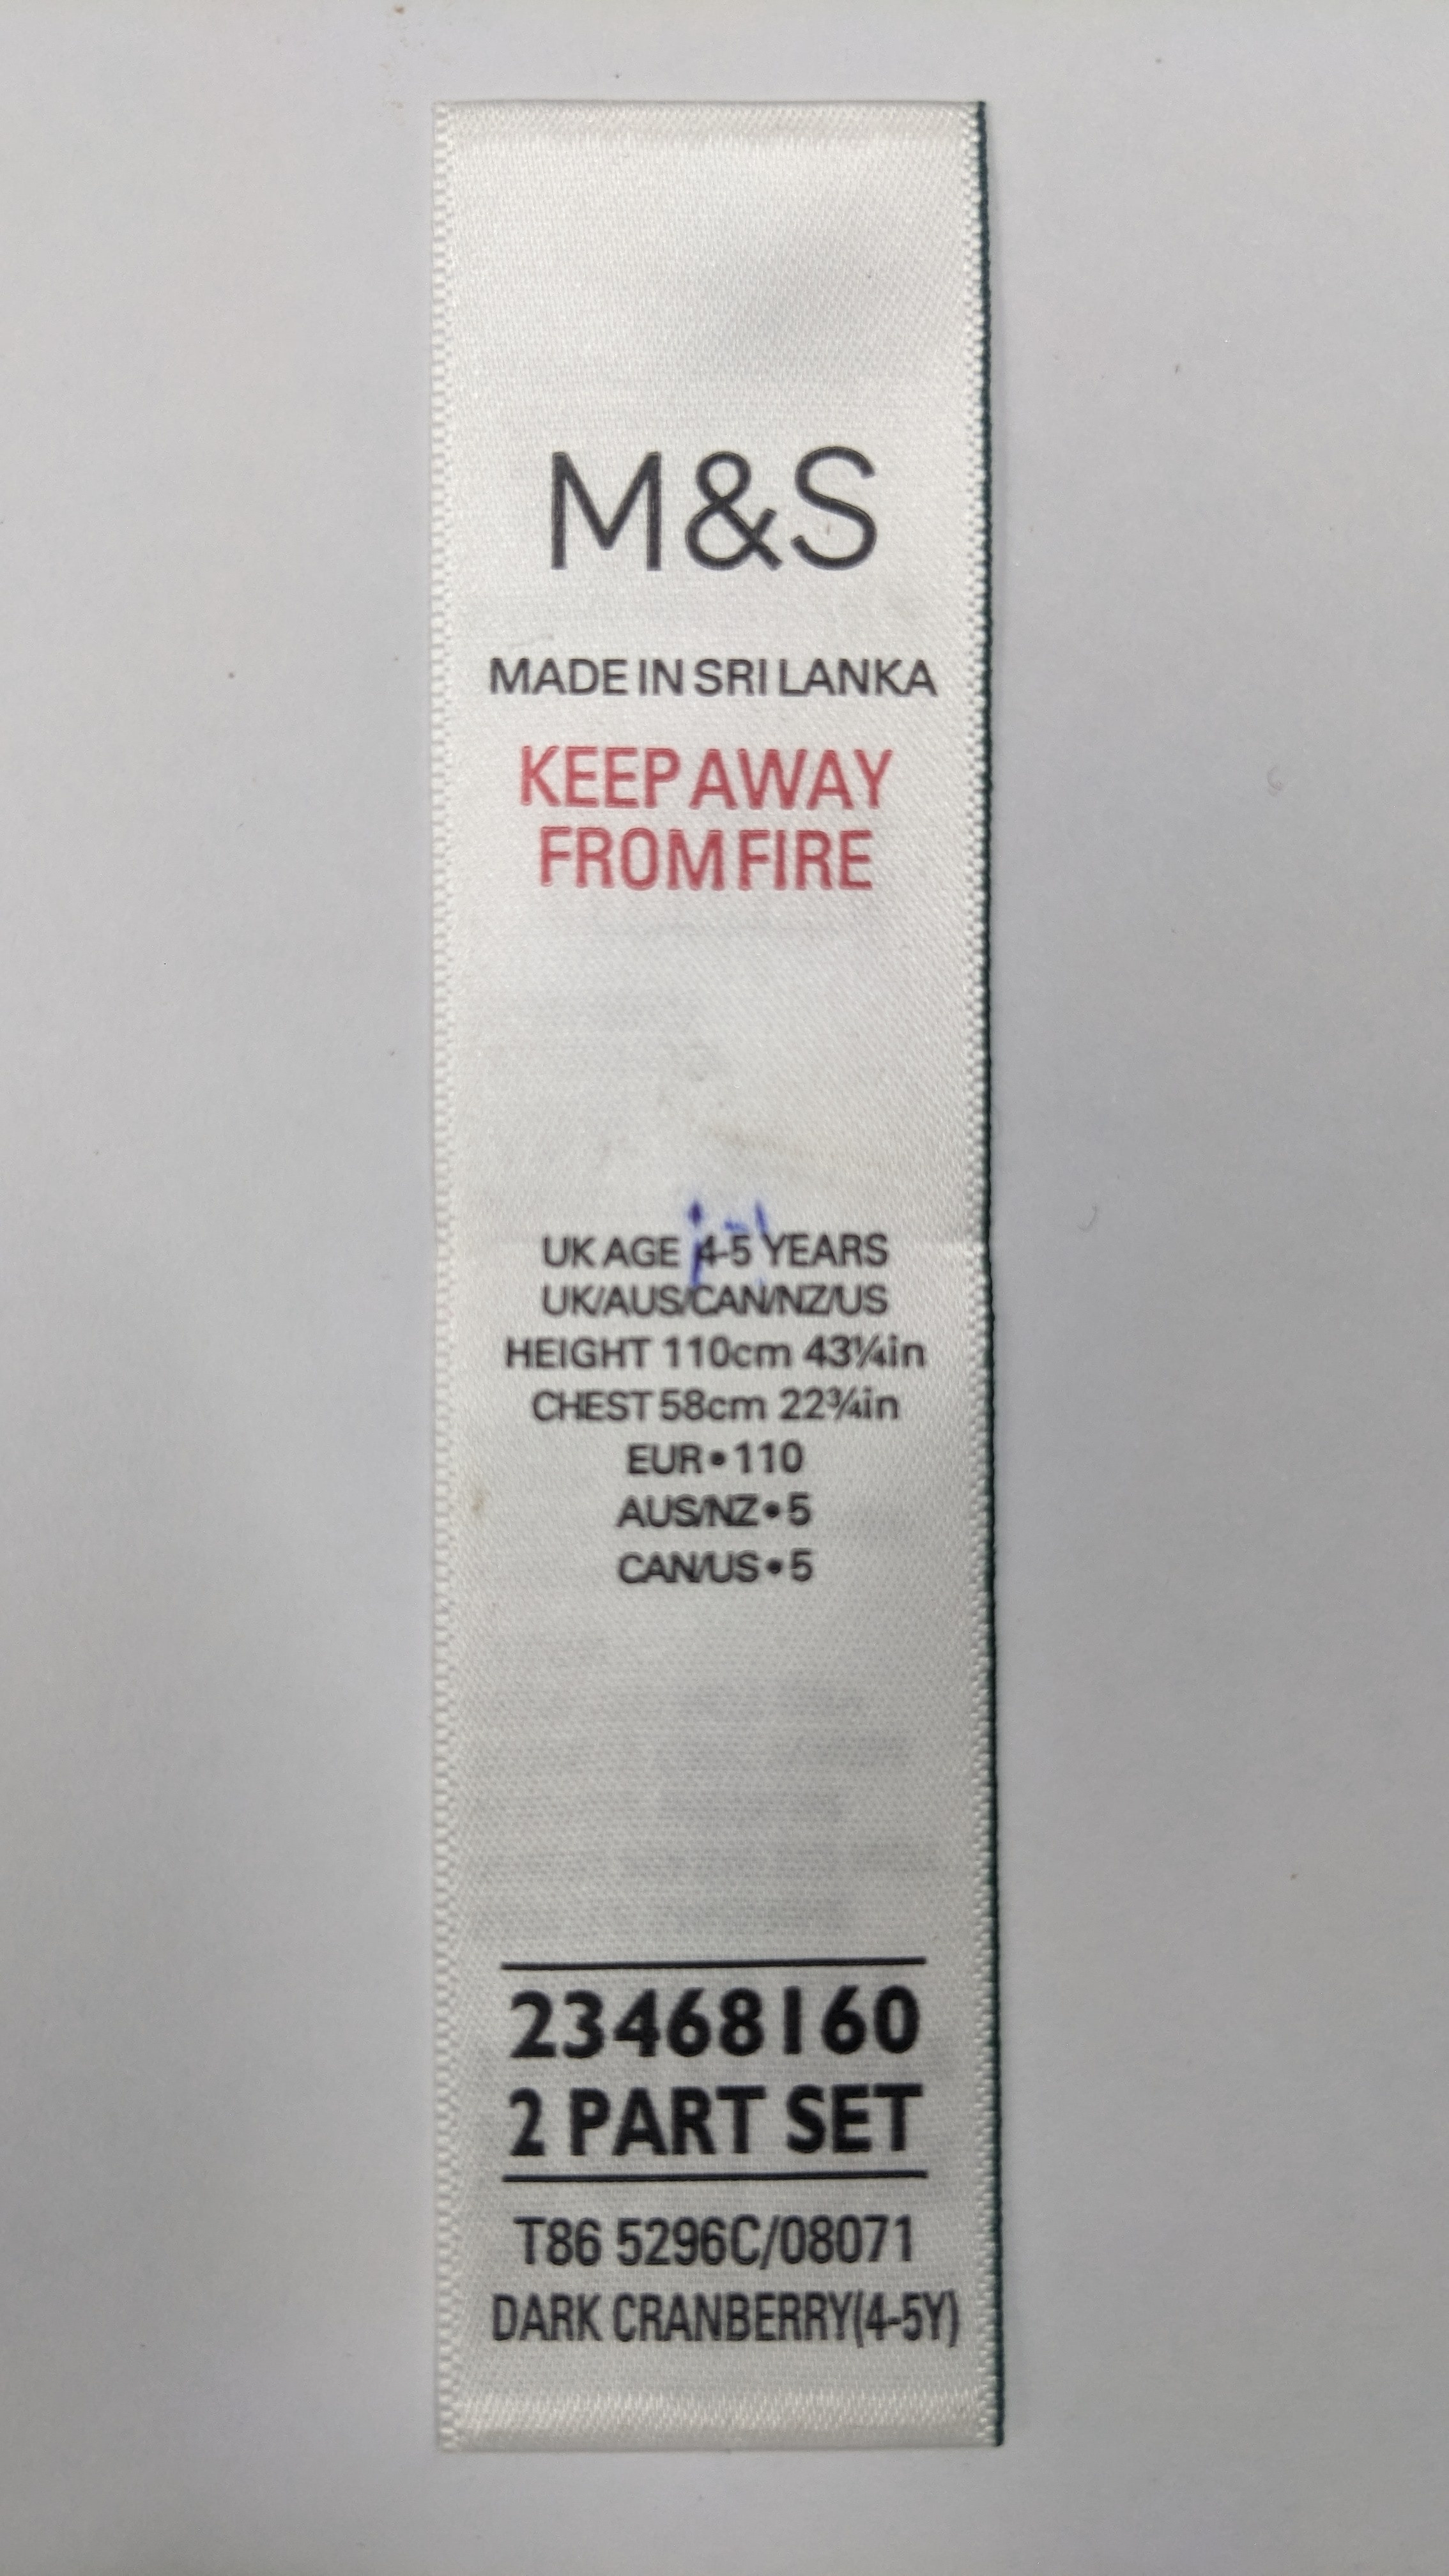Damaged_label: (380, 58, 1033, 2459)
